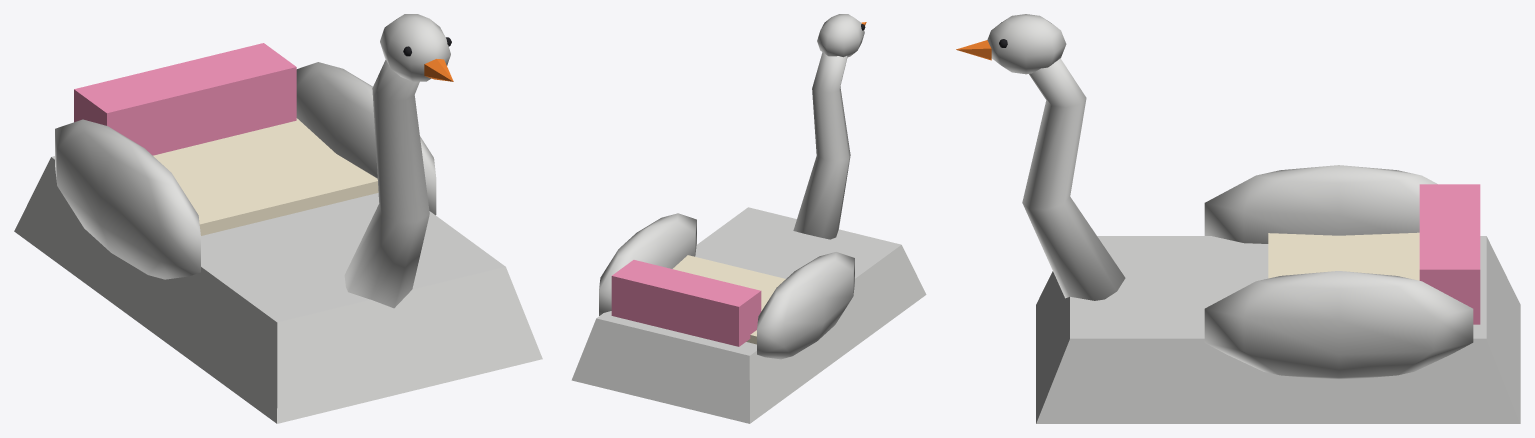
The model's file is p_boat.glb.
3 renders of one model, left to right at view 1: azimuth 30°, elevation 25°; view 2: azimuth 150°, elevation 25°; view 3: azimuth 270°, elevation 25°, orthographic. The views are drawn at different scales.
Parts seen in each view (by area): view 1: boat; view 2: boat; view 3: boat.
Part boxes in pixels (left/top/right/bottom): boat: left=14, top=14, right=542, bottom=423; boat: left=571, top=14, right=926, bottom=423; boat: left=956, top=14, right=1520, bottom=423.
Bounding box in the file's own units: 1.53 × 1.9 × 2.8.
